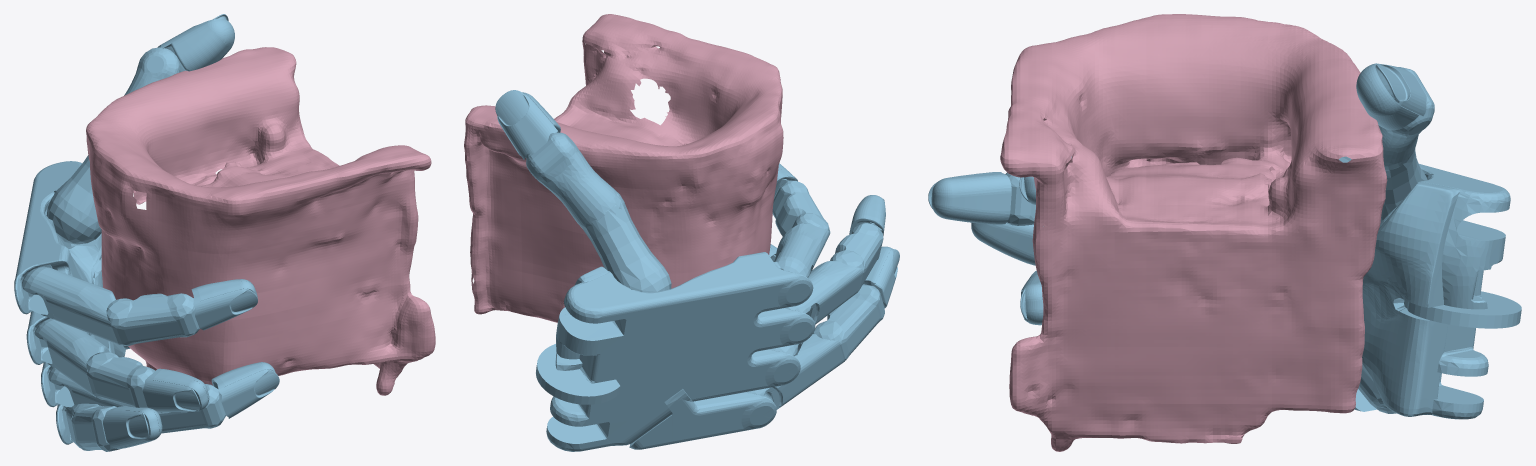
3 renders of one model, left to right at view 1: azimuth 30°, elevation 25°; view 2: azimuth 150°, elevation 25°; view 3: azimuth 270°, elevation 25°, orthographic. The views are drawn at different scales.
Visible parts, largest first — view 1: world, hand_isaac_q; view 2: hand_isaac_q, world; view 3: world, hand_isaac_q.
Part boxes in pixels (x1,y1,x2,y2): world: (86,47,435,395); hand_isaac_q: (14,14,279,451); hand_isaac_q: (495,90,899,451); world: (464,14,783,322); world: (1000,14,1387,451); hand_isaac_q: (928,63,1521,419).
Size of the model in its own units: 0.1562 by 0.1569 by 0.1997.
